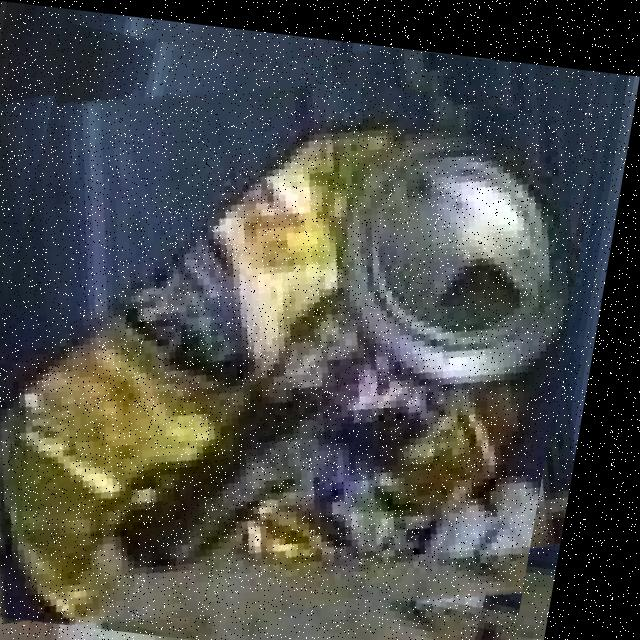litter: (0, 65, 566, 618)
